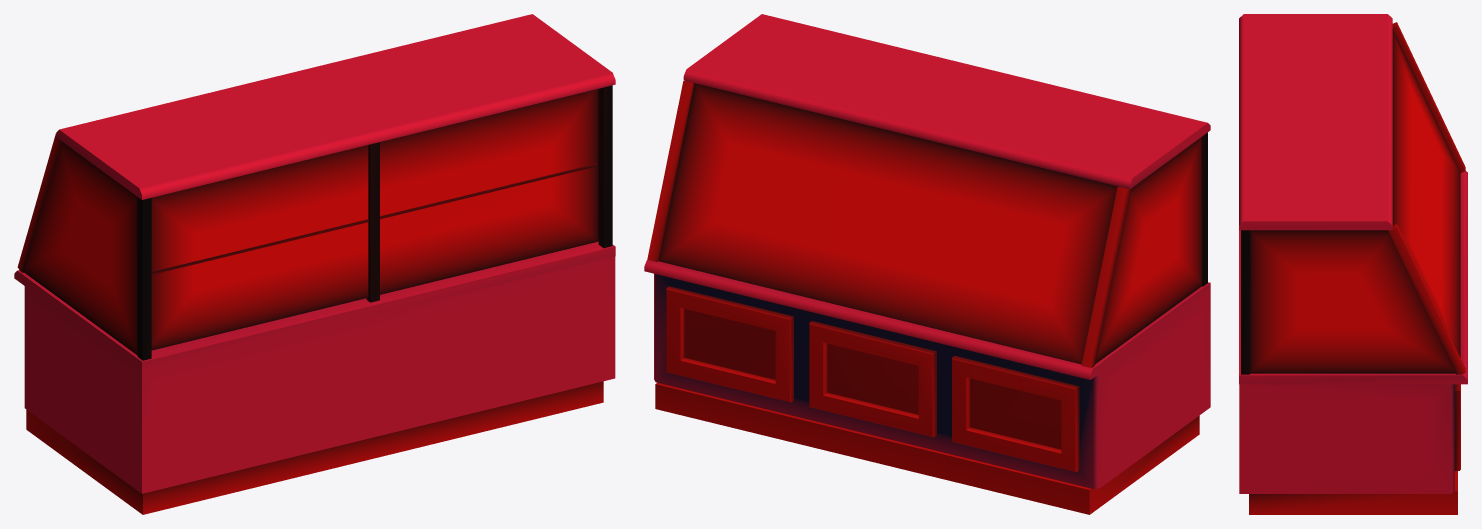
File: CI_Bakery_DisplayCounter_Glass.fbx
3 renders of one model, left to right at view 1: azimuth 30°, elevation 25°; view 2: azimuth 150°, elevation 25°; view 3: azimuth 270°, elevation 25°, orthographic. The views are drawn at different scales.
Parts seen in each view (by area): view 1: CI_Bakery_DisplayCounter_Glass; view 2: CI_Bakery_DisplayCounter_Glass; view 3: CI_Bakery_DisplayCounter_Glass.
Part boxes in pixels (x1,y1,x2,y2): CI_Bakery_DisplayCounter_Glass: [14, 14, 615, 514]; CI_Bakery_DisplayCounter_Glass: [644, 14, 1210, 514]; CI_Bakery_DisplayCounter_Glass: [1239, 14, 1467, 514].
Size of the model in its own units: 1.5 by 1 by 0.7.
